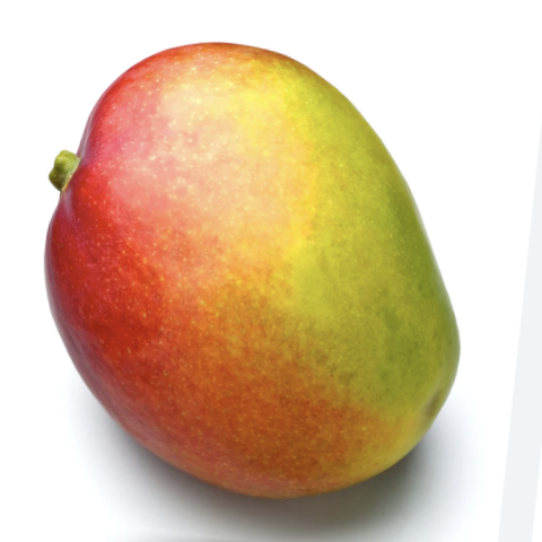mango: (0, 0, 531, 541)
